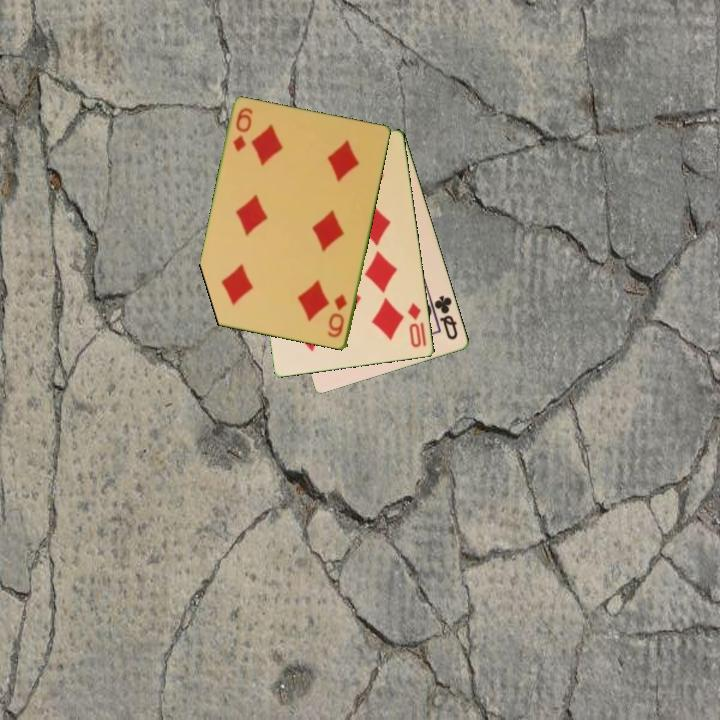10d: (404, 300, 425, 351)
6d: (324, 291, 350, 341), (230, 105, 256, 155)
Qc: (431, 292, 461, 343)
